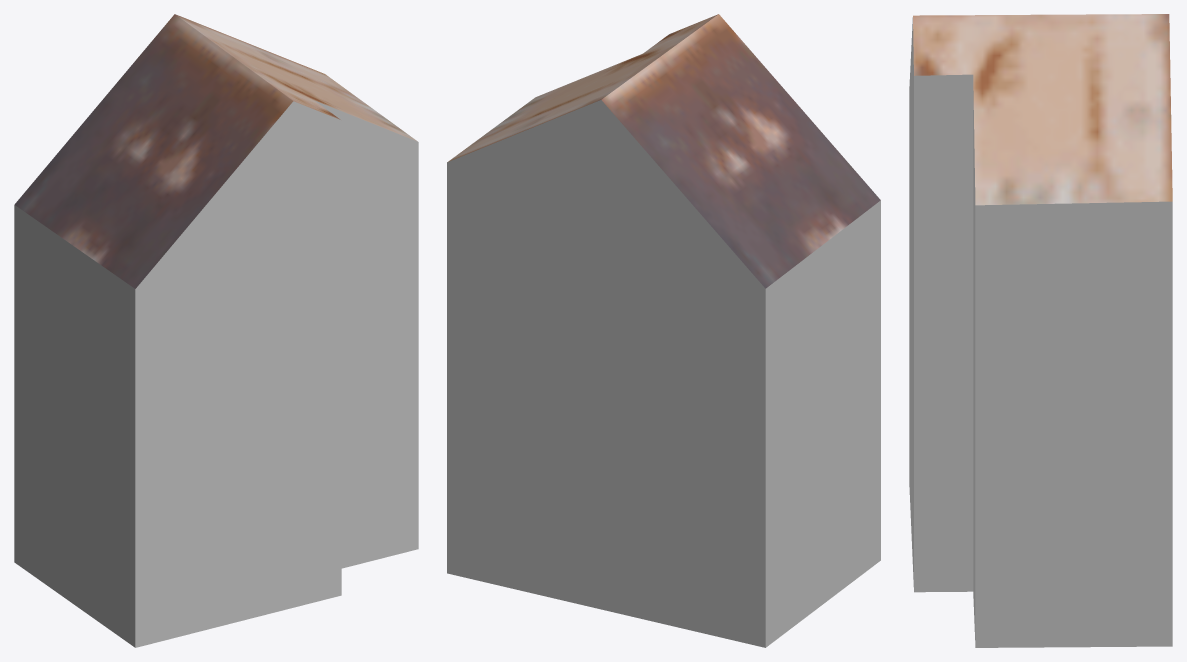
File: DEBW_0010007Tx87.gltf
3 renders of one model, left to right at view 1: azimuth 30°, elevation 25°; view 2: azimuth 150°, elevation 25°; view 3: azimuth 270°, elevation 25°, orthographic. The views are drawn at different scales.
Visible parts, largest first — view 1: Z_UP; view 2: Z_UP; view 3: Z_UP.
Part boxes in pixels (bbox=[...]): Z_UP: bbox=[14, 14, 418, 647]; Z_UP: bbox=[447, 14, 880, 647]; Z_UP: bbox=[909, 14, 1172, 647].
Bounding box in the file's own units: 14.11 × 21.61 × 9.35.
2 materials, 1 textured.
